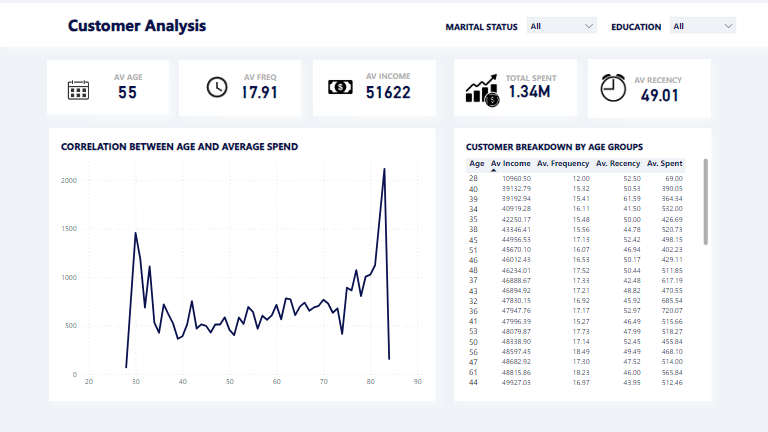

What the dashboard file says about the page in this screenshot:
{"tool":"powerbi","page":{"name":"Page 1","canvas":[1280,720],"ordinal":0},"visuals":[{"type":"shape","box":[79,99.5,203.4,90.7],"z":0},{"type":"shape","box":[980.3,98,204.9,98],"z":1000},{"type":"shape","box":[756.6,98,204.9,95.1],"z":2000},{"type":"shape","box":[0,4.4,1280,73.2],"z":3000},{"type":"textbox","box":[108.3,17.6,320.5,46.8],"z":4000},{"type":"pivotTable","title":"CUSTOMER BREAKDOWN BY AGE GROUPS","fields":{"Values":["Avg(new_data.Income)","Avg(new_data.Frequency)","Avg(new_data.Recency)","Avg(new_data.Total_Spent)"],"Rows":["new_data.Age"]},"box":[756.6,213.7,428.8,455.1],"z":5000},{"type":"image","box":[81.7,109.8,98,80.5],"z":6000},{"type":"shape","box":[298.5,99.5,203.4,93.7],"z":7000},{"type":"card","title":"AV AGE","fields":{"Values":["Avg(new_data.Frequency)"]},"box":[368.1,115.6,127.3,73.2],"z":8000},{"type":"textbox","title":"No. of customers","box":[387.7,115.6,90.7,33.7],"z":9000},{"type":"image","box":[308.1,97.1,106.8,96.6],"z":10000},{"type":"shape","box":[521,99.5,204.9,93.7],"z":11000},{"type":"card","title":"AV AGE","fields":{"Values":["Avg(new_data.Income)"]},"box":[585.3,116.7,122.9,70.2],"z":12000},{"type":"textbox","title":"No. of customers","box":[576.5,113.8,140.5,33.7],"z":13000},{"type":"card","title":"AV AGE","fields":{"Values":["Sum(new_data.Total_Spent)"]},"box":[818,114.1,127.3,73.2],"z":14000},{"type":"textbox","title":"No. of customers","box":[815.1,117.1,140.5,33.7],"z":15000},{"type":"card","title":"AV AGE","fields":{"Values":["Avg(new_data.Recency)"]},"box":[1036.9,120,127.3,73.2],"z":17000},{"type":"textbox","title":"No. of customers","box":[1027.3,120,140.5,33.7],"z":18000},{"type":"card","title":"AV AGE","fields":{"Values":["Avg(new_data.Age)"]},"box":[148.8,114.9,127.3,73.2],"z":20000},{"type":"textbox","title":"No. of customers","box":[168.4,114.9,90.7,33.7],"z":21000},{"type":"textbox","box":[697,27.8,171.2,36.6],"z":22000},{"type":"slicer","fields":{"Values":["new_data.Marital_Status"]},"box":[868.3,19,136.1,42.4],"z":23000},{"type":"slicer","fields":{"Values":["new_data.Education"]},"box":[1107.3,17.6,130.2,39.5],"z":24000},{"type":"textbox","box":[1004.8,27.8,102.4,33.7],"z":25000},{"type":"lineChart","title":"CORRELATION BETWEEN AGE AND AVERAGE SPEND","fields":{"Category":["new_data.Age"],"Y":["Avg(new_data.Total_Spent)"]},"box":[82,213.7,643.9,455.1],"z":26000},{"type":"image","box":[523.9,95.1,87.8,101],"z":28000},{"type":"image","box":[756.6,101,90.7,89.3],"z":28001},{"type":"image","box":[987.8,118.5,68.8,55.6],"z":28002}]}

Visuals, with their boxes in screenshot pixels (x1, y1, x2, y2), scaled from the page's 1280x720 canvas onto the 768x432 screenshot:
shape: 47:60:169:114
shape: 588:59:711:118
shape: 454:59:577:116
shape: 0:3:767:47
textbox: 65:11:257:39
"CUSTOMER BREAKDOWN BY AGE GROUPS" pivotTable: 454:128:711:401
image: 49:66:108:114
shape: 179:60:301:116
"AV AGE" card: 221:69:297:113
"No. of customers" textbox: 233:69:287:90
image: 185:58:249:116
shape: 313:60:436:116
"AV AGE" card: 351:70:425:112
"No. of customers" textbox: 346:68:430:88
"AV AGE" card: 491:68:567:112
"No. of customers" textbox: 489:70:573:90
"AV AGE" card: 622:72:699:116
"No. of customers" textbox: 616:72:701:92
"AV AGE" card: 89:69:166:113
"No. of customers" textbox: 101:69:155:89
textbox: 418:17:521:39
slicer - new_data.Marital_Status: 521:11:603:37
slicer - new_data.Education: 664:11:742:34
textbox: 603:17:664:37
"CORRELATION BETWEEN AGE AND AVERAGE SPEND" lineChart: 49:128:436:401
image: 314:57:367:118
image: 454:61:508:114
image: 593:71:634:104
